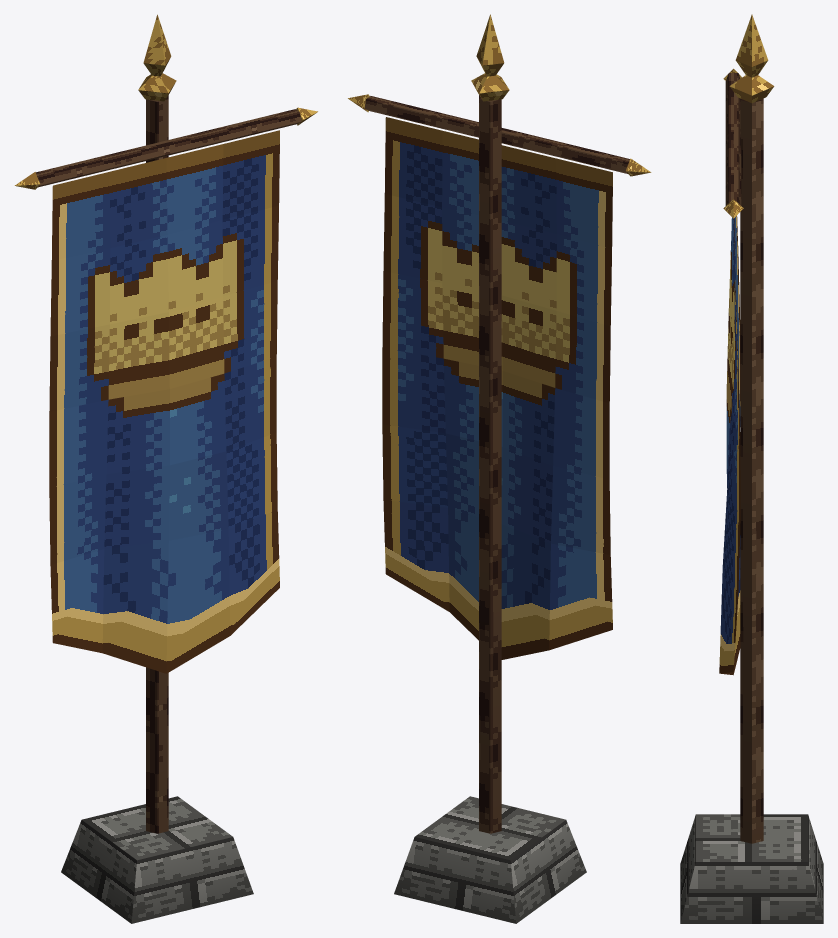
Rendered from banner_blue.glb.
3 renders of one model, left to right at view 1: azimuth 30°, elevation 25°; view 2: azimuth 150°, elevation 25°; view 3: azimuth 270°, elevation 25°, orthographic.
Parts seen in each view (by area): view 1: cloth, banner_blue; view 2: cloth, banner_blue; view 3: banner_blue, cloth.
Boxes of the visible parts, left/top/right/bottom form: cloth: left=49, top=130, right=279, bottom=673; banner_blue: left=14, top=14, right=317, bottom=923; cloth: left=382, top=117, right=612, bottom=659; banner_blue: left=348, top=14, right=651, bottom=923; banner_blue: left=680, top=14, right=823, bottom=923; cloth: left=719, top=216, right=740, bottom=675.
Size of the model in its own units: 1.74 by 4.75 by 0.7.
Materials: 4 (4 with a texture image).
